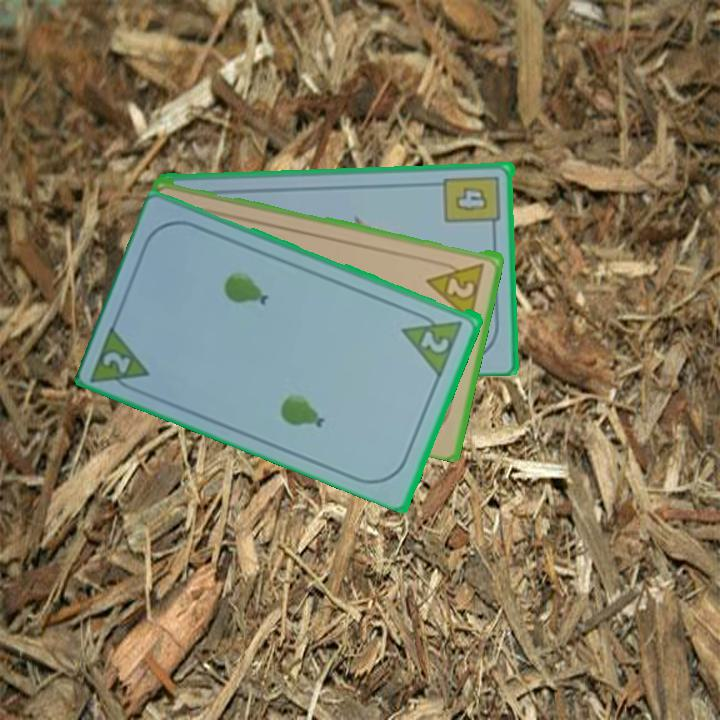2p: (89, 319, 154, 398), (399, 305, 466, 377), (423, 258, 488, 321)
4b: (441, 172, 504, 234)
